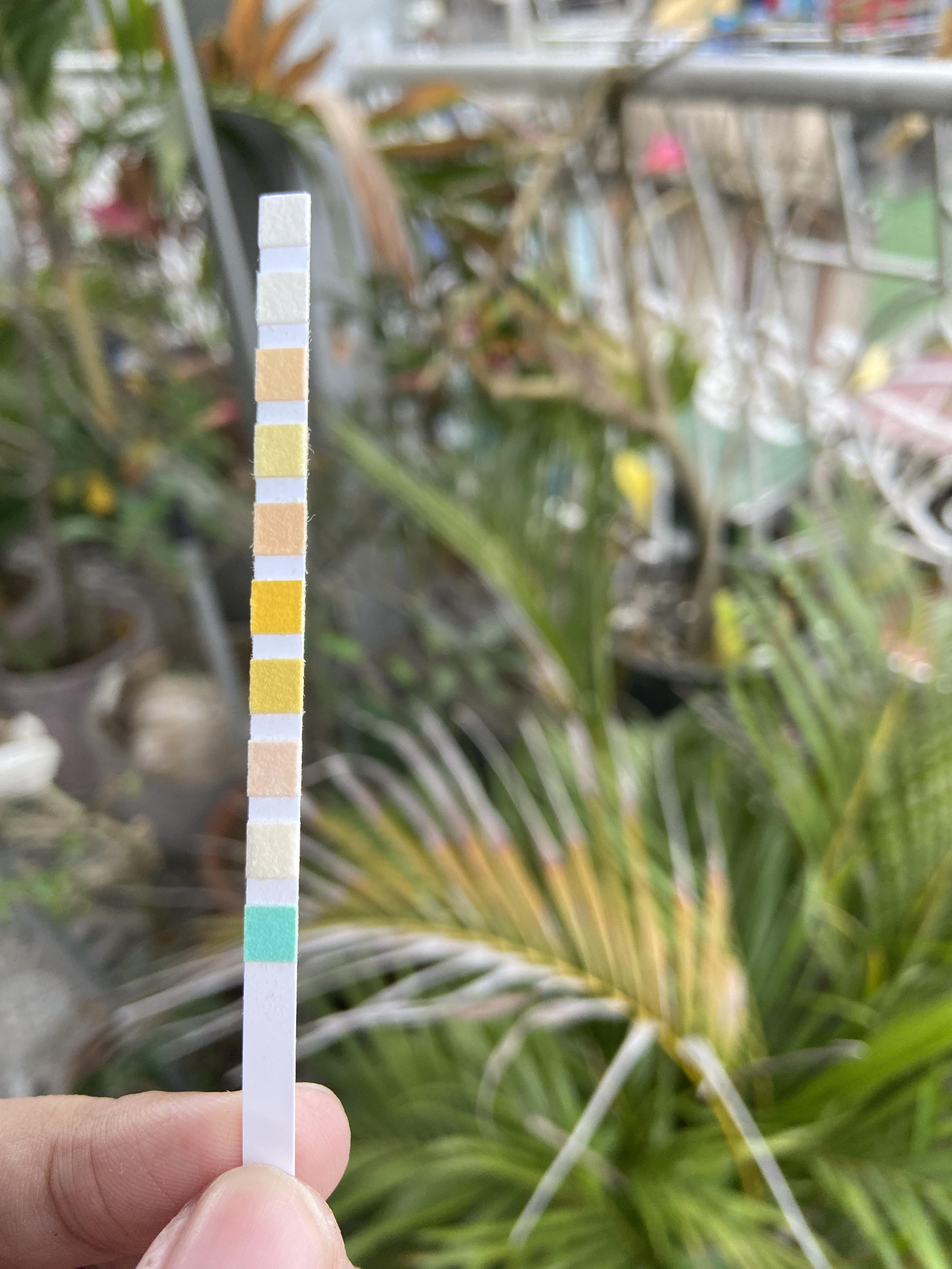Bilirubin: (248, 828, 296, 877)
Blood: (253, 583, 301, 631)
Glucose: (245, 909, 294, 957)
Ketone: (249, 746, 297, 794)
Leukocytes: (260, 196, 309, 245)
Nitrite: (259, 274, 307, 322)
Protein: (254, 426, 303, 474)
SpGravity: (251, 661, 300, 710)
Urobilinogen: (257, 351, 306, 399)
pH: (254, 503, 302, 552)
strip: (243, 193, 311, 1156)
